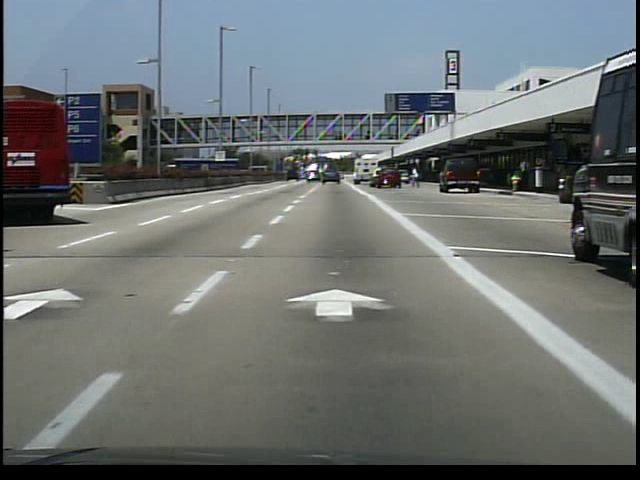person: (516, 158, 534, 198), (410, 168, 424, 190)
